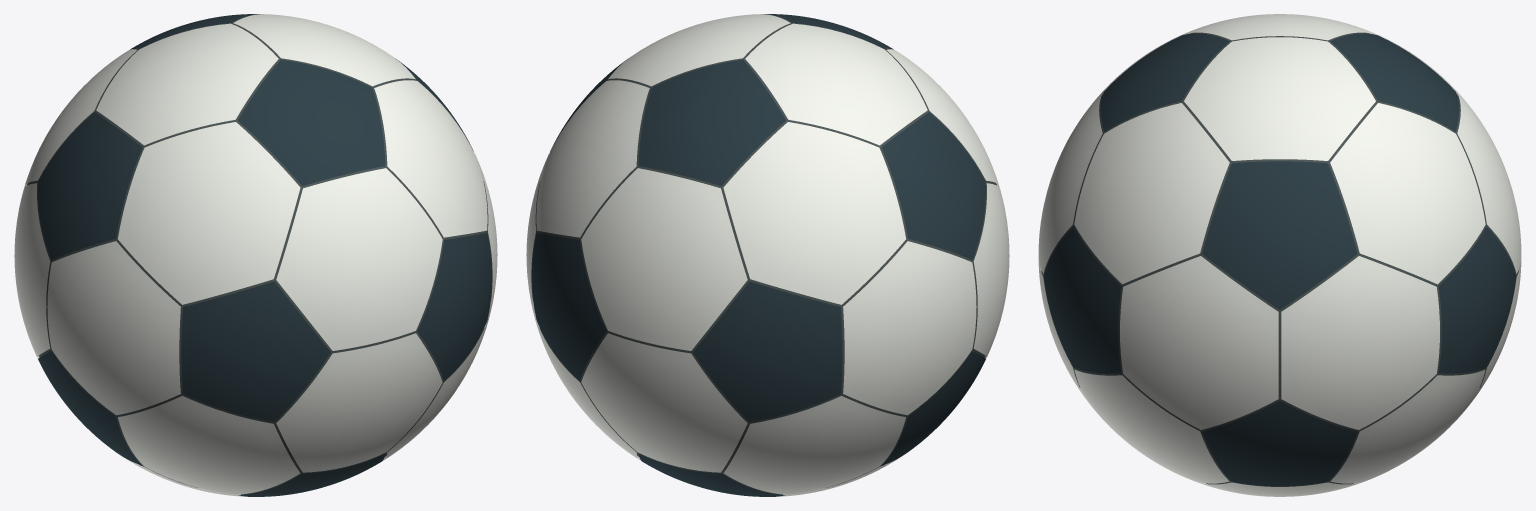
Rendered from match-ball.glb.
The picture shows the model from 3 angles, left to right: view 1: azimuth 30°, elevation 25°; view 2: azimuth 150°, elevation 25°; view 3: azimuth 270°, elevation 25°; orthographic projection.
Parts seen in each view (by area): view 1: MatchBall, SeamCore; view 2: MatchBall, SeamCore; view 3: MatchBall, SeamCore.
Boxes of the visible parts, x1,y1,x2,y2 form: MatchBall: (14, 14, 497, 496); SeamCore: (27, 16, 492, 494); MatchBall: (526, 14, 1009, 496); SeamCore: (531, 16, 996, 494); MatchBall: (1038, 14, 1521, 496); SeamCore: (1041, 32, 1518, 486).
Size of the model in its own units: 0.22 by 0.22 by 0.22.
